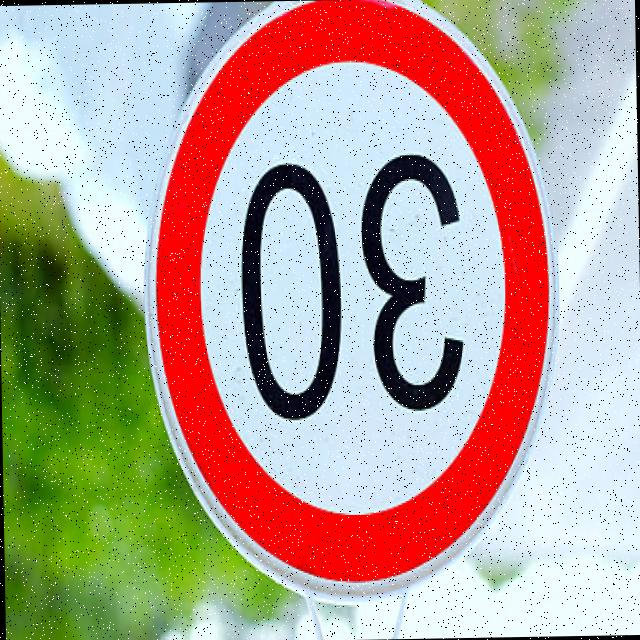speed_limit_30: (140, 0, 565, 614)
